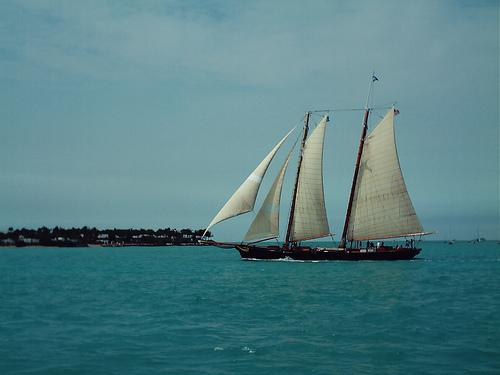Ship: (198, 69, 436, 261)
